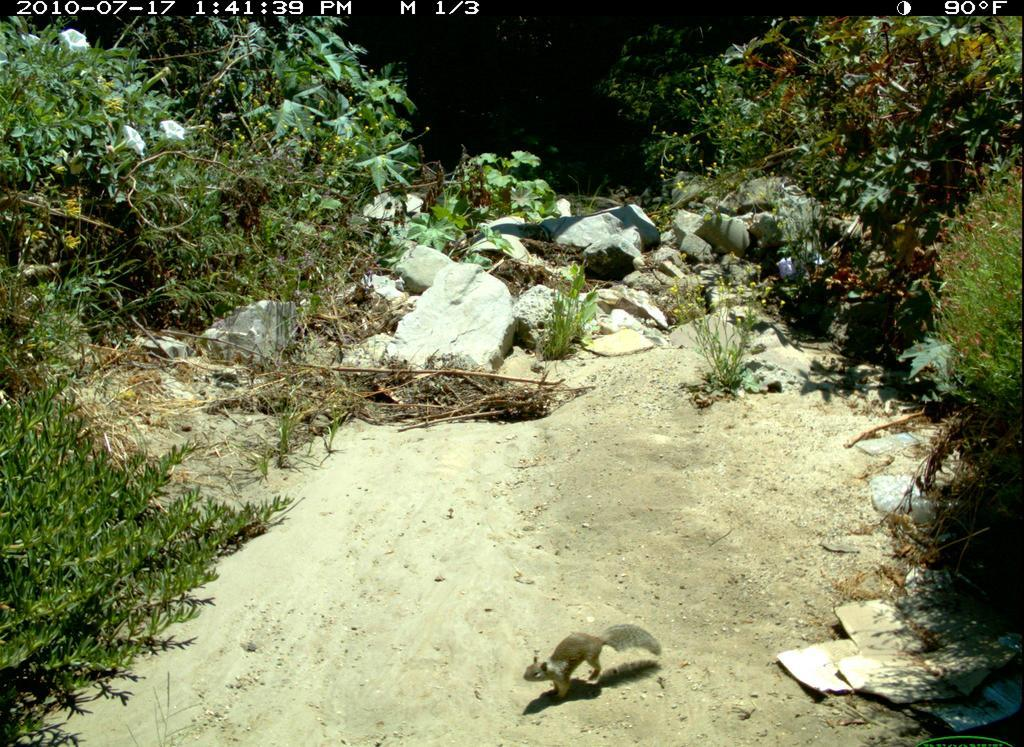squirrel: (517, 618, 668, 705)
